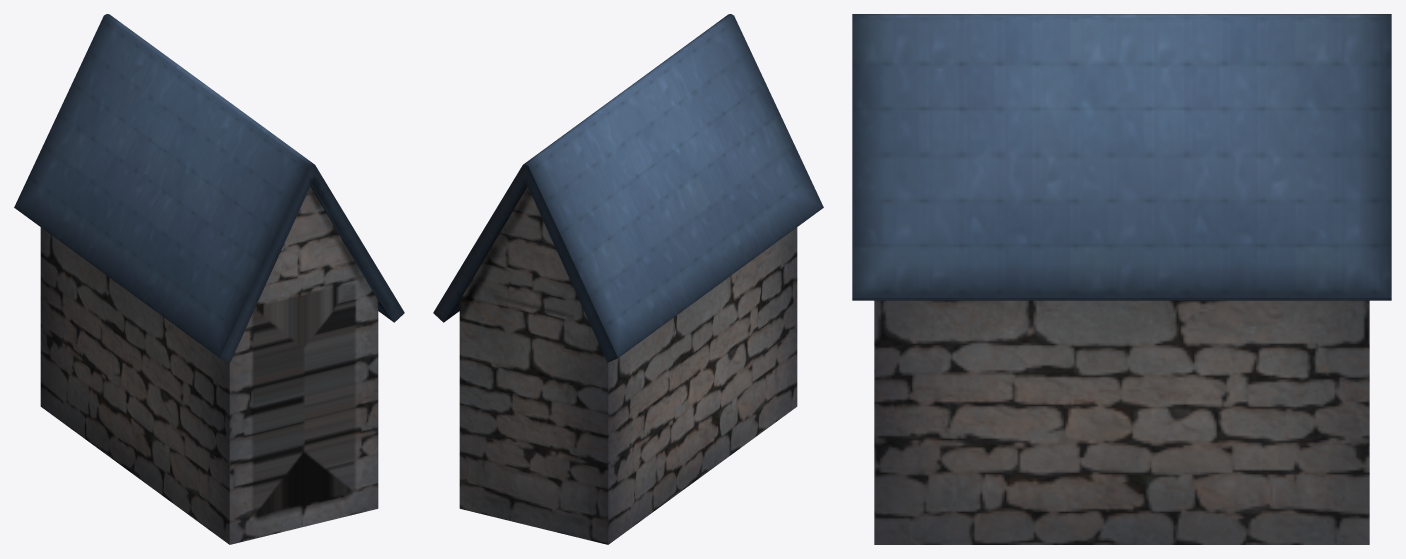
File: sb_obj_outdoor002_DemonsCastle01_hut01_col.fbx
The picture shows the model from 3 angles, left to right: view 1: azimuth 30°, elevation 25°; view 2: azimuth 150°, elevation 25°; view 3: azimuth 270°, elevation 25°; orthographic projection. The views are drawn at different scales.
Visible parts, largest first — view 1: sb_obj_outdoor002_DemonsCastle01_hut01_col; view 2: sb_obj_outdoor002_DemonsCastle01_hut01_col; view 3: sb_obj_outdoor002_DemonsCastle01_hut01_col.
Part boxes in pixels (x1=…): sb_obj_outdoor002_DemonsCastle01_hut01_col: x1=14, y1=14, x2=404, y2=544; sb_obj_outdoor002_DemonsCastle01_hut01_col: x1=433, y1=14, x2=823, y2=544; sb_obj_outdoor002_DemonsCastle01_hut01_col: x1=852, y1=14, x2=1391, y2=544.
Size of the model in its own units: 1.09 by 2.07 by 2.09.
